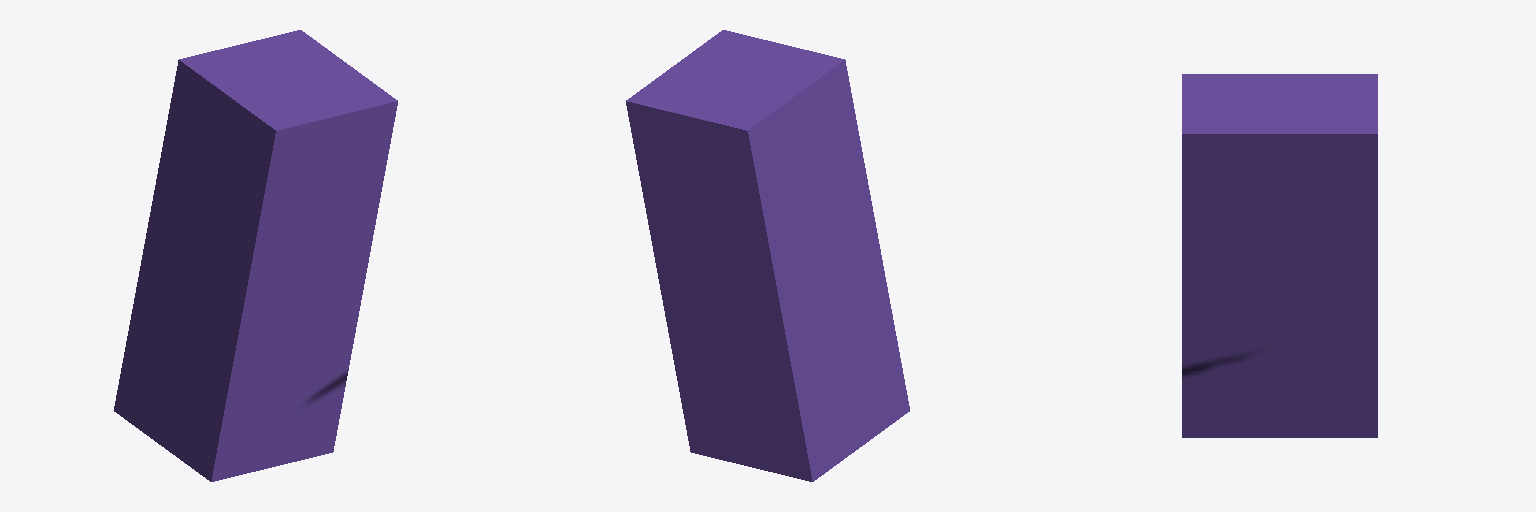
3 views of the same model, side by side, from view 1: azimuth 30°, elevation 25°; view 2: azimuth 150°, elevation 25°; view 3: azimuth 270°, elevation 25° (orthographic).
Visible parts, largest first — view 1: armR; view 2: armR; view 3: armR.
Part boxes in pixels (left/top/right/bottom): armR: left=114, top=30, right=397, bottom=481; armR: left=626, top=30, right=909, bottom=481; armR: left=1182, top=74, right=1377, bottom=437.
Size of the model in its own units: 0.3213 by 0.5504 by 0.29.
1 materials, 1 textured.